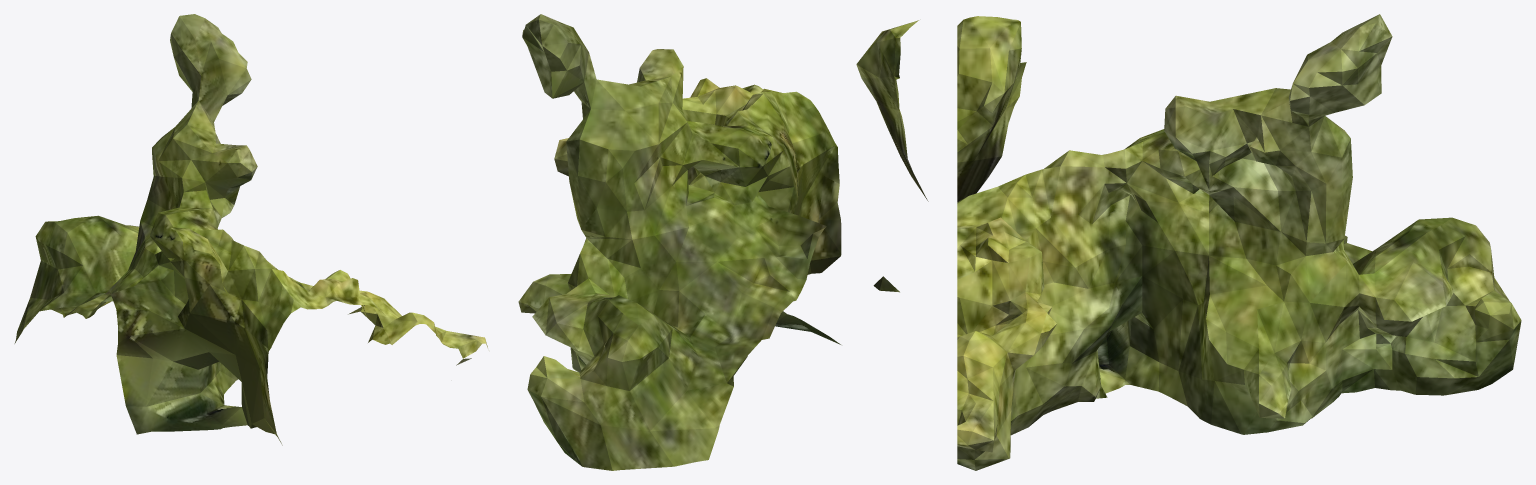
3 renders of one model, left to right at view 1: azimuth 30°, elevation 25°; view 2: azimuth 150°, elevation 25°; view 3: azimuth 270°, elevation 25°, orthographic. The views are drawn at different scales.
Size of the model in its own units: 2.1 by 2.07 by 2.62.
3 materials, 3 textured.
